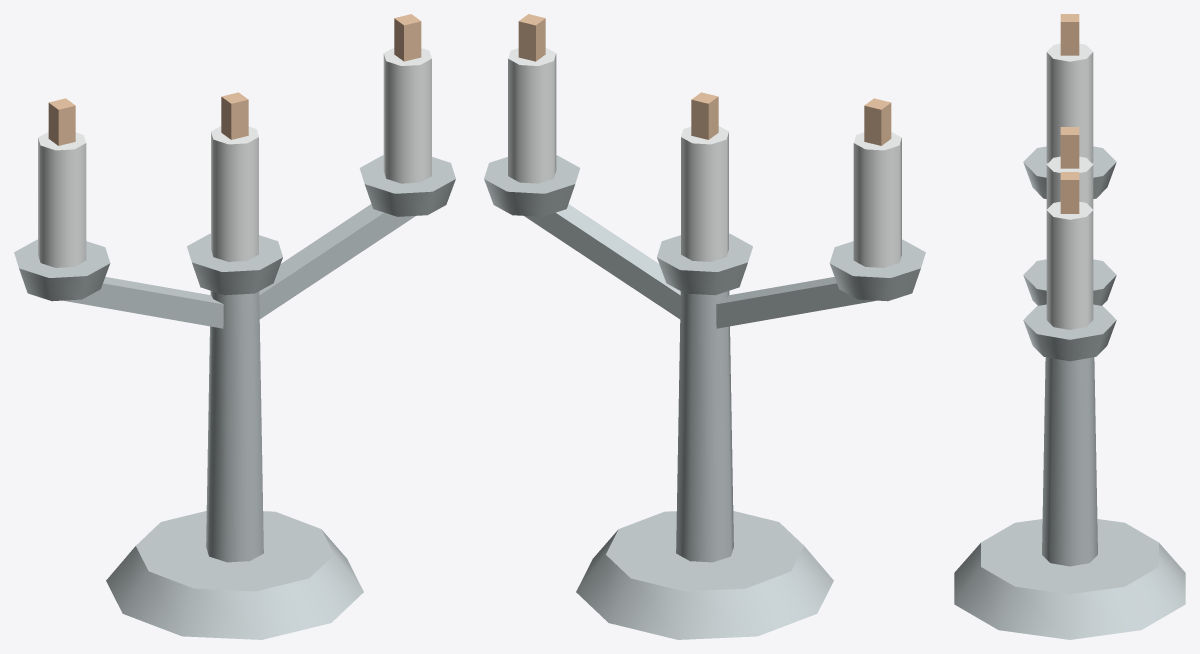
Rendered from candelabraThreeArm.glb.
3 renders of one model, left to right at view 1: azimuth 30°, elevation 25°; view 2: azimuth 150°, elevation 25°; view 3: azimuth 270°, elevation 25°, orthographic. The views are drawn at different scales.
Parts seen in each view (by area): view 1: candelabraThreeArm; view 2: candelabraThreeArm; view 3: candelabraThreeArm.
Part boxes in pixels (box(x1,y1,x2,y2)): candelabraThreeArm: box(14, 14, 455, 639); candelabraThreeArm: box(484, 14, 925, 639); candelabraThreeArm: box(954, 14, 1185, 639).
Size of the model in its own units: 0.25 by 0.29 by 0.1236.
